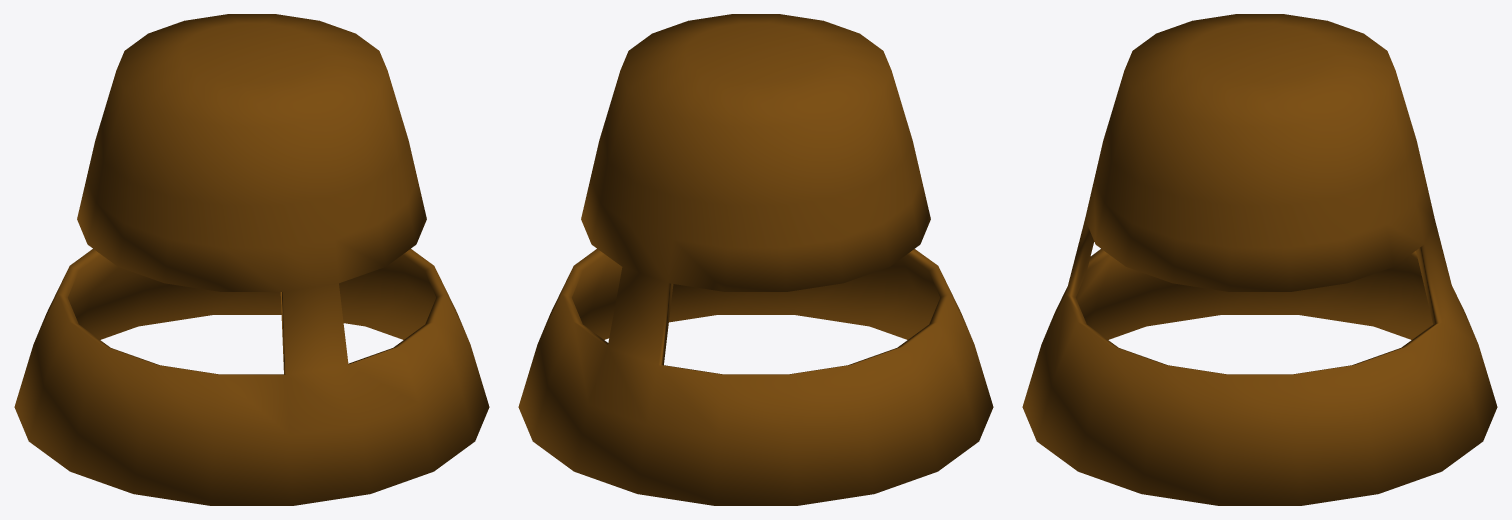
The model's file is Torreta.fbx.
3 views of the same model, side by side, from view 1: azimuth 30°, elevation 25°; view 2: azimuth 150°, elevation 25°; view 3: azimuth 270°, elevation 25° (orthographic).
Parts seen in each view (by area): view 1: Cabeza; view 2: Cabeza; view 3: Cabeza.
Part boxes in pixels (x1,y1,x2,y2): Cabeza: (14,14,489,505); Cabeza: (518,14,993,505); Cabeza: (1022,14,1497,505).
Bounding box in the file's own units: 127 × 107 × 129.
